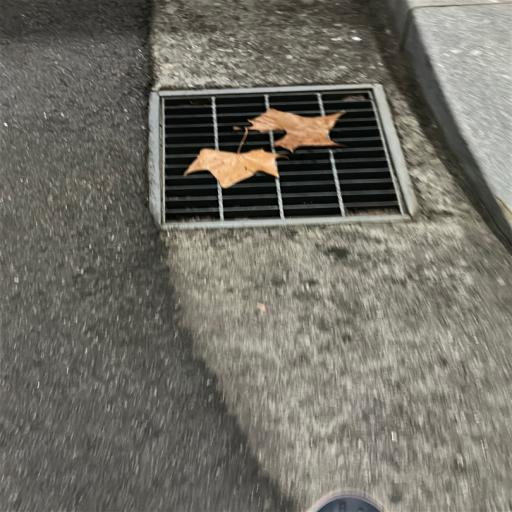debris: (242, 107, 343, 150), (183, 148, 284, 188), (366, 209, 384, 214)
drain: (167, 86, 405, 221)
